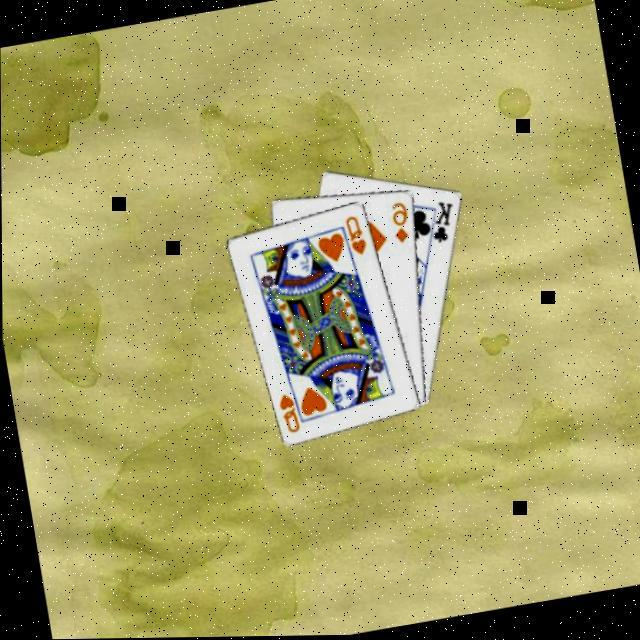6D: (384, 199, 412, 249)
KC: (417, 198, 460, 250)
QH: (272, 383, 306, 438), (339, 213, 369, 262)
